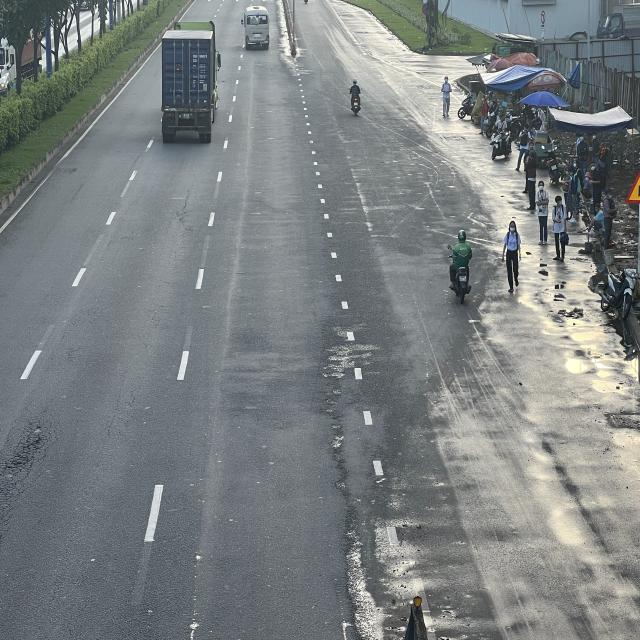coach: (242, 4, 271, 50)
container: (161, 24, 222, 144)
